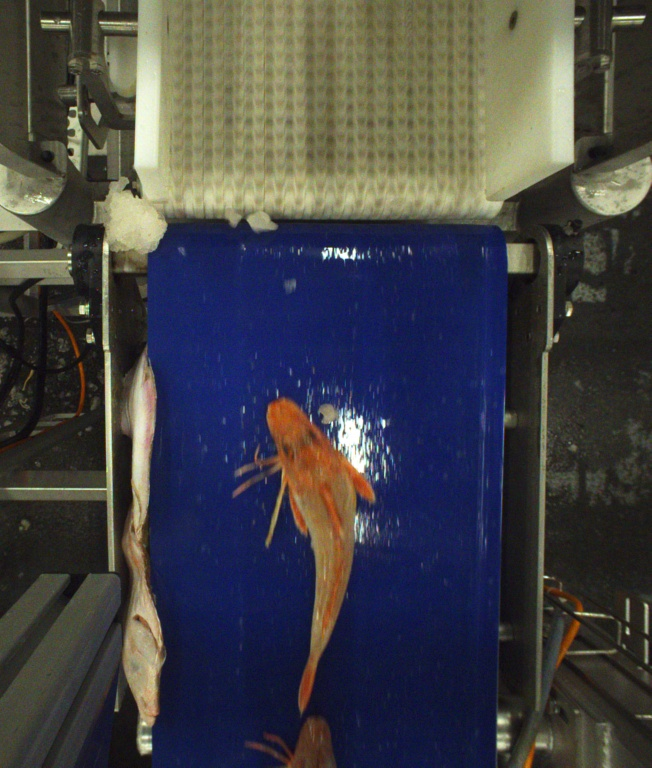GUU: (233, 399, 378, 717)
